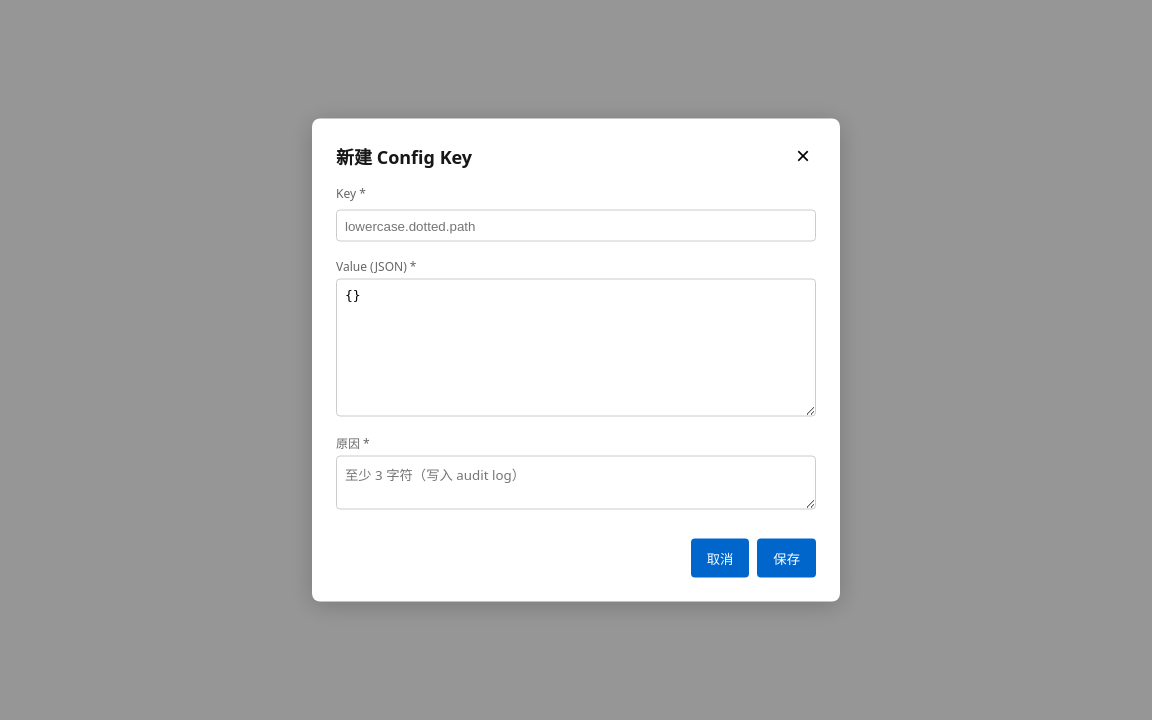
ConfigEditModal (Sub-E) › 6. reason shorter than 3 chars shows reason error
Type "platform.fee" into the field with test id "config-key" at x=576, y=226, box [336,210,816,242]
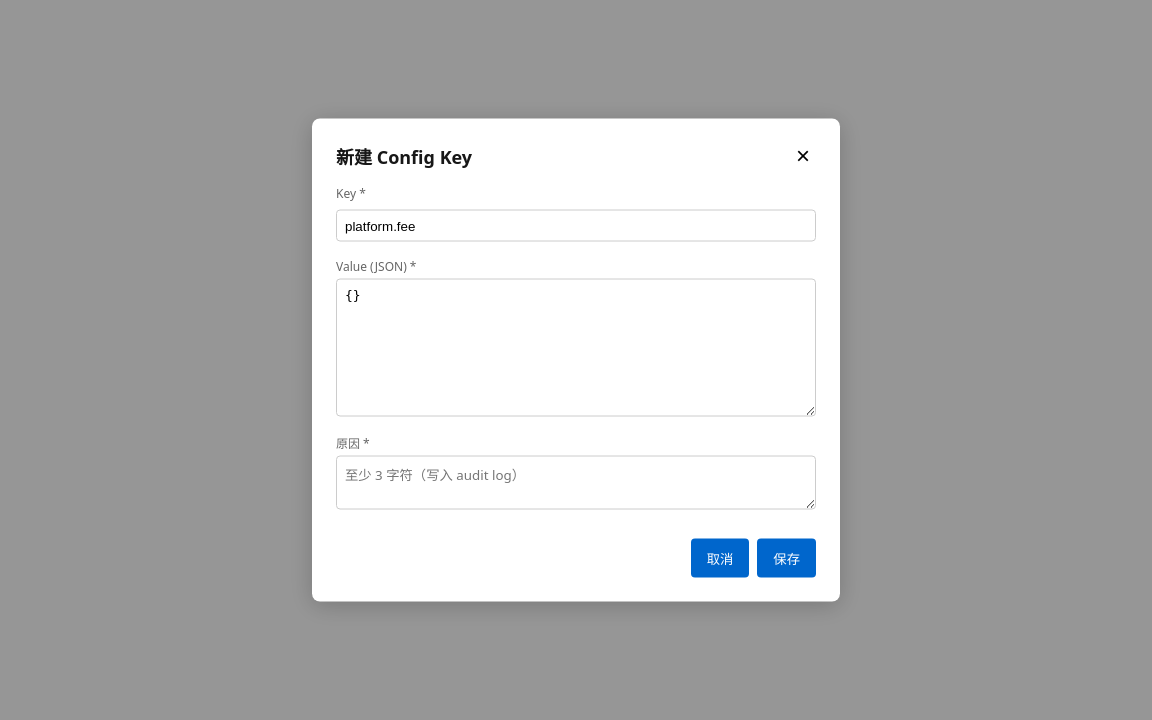
Type "no" into the text box with test id "config-reason" at x=576, y=482, box [336,456,816,510]
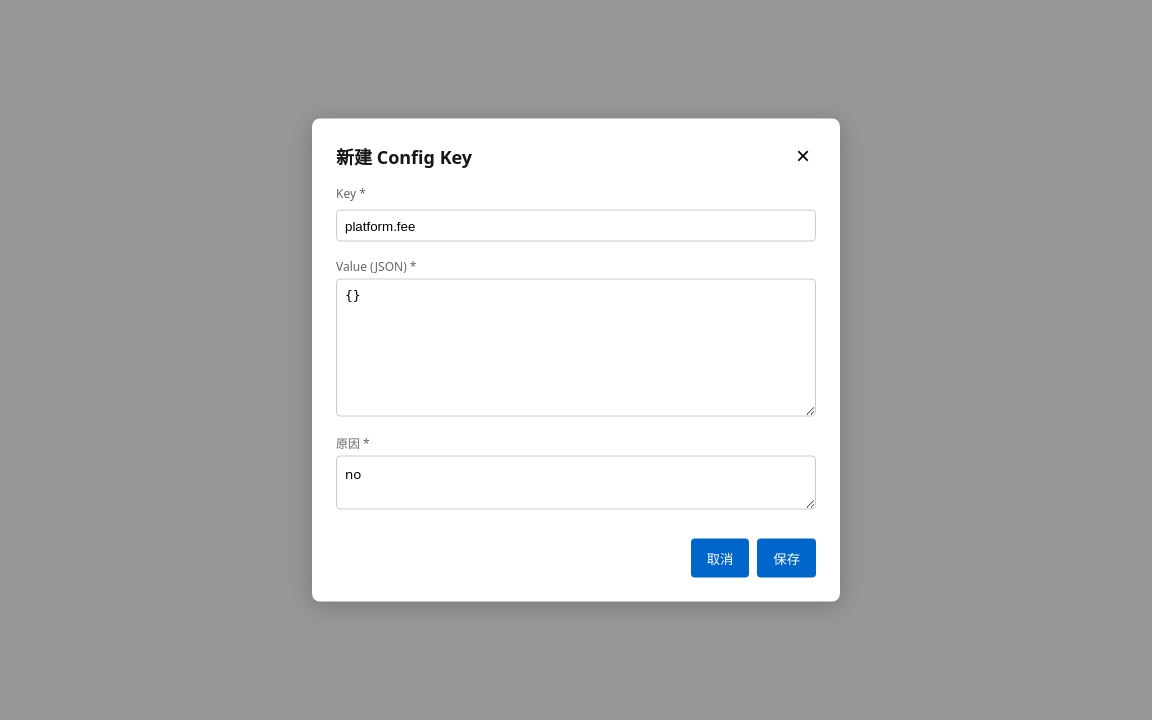
Click the button with test id "config-save" at x=787, y=558, box [757,538,816,578]
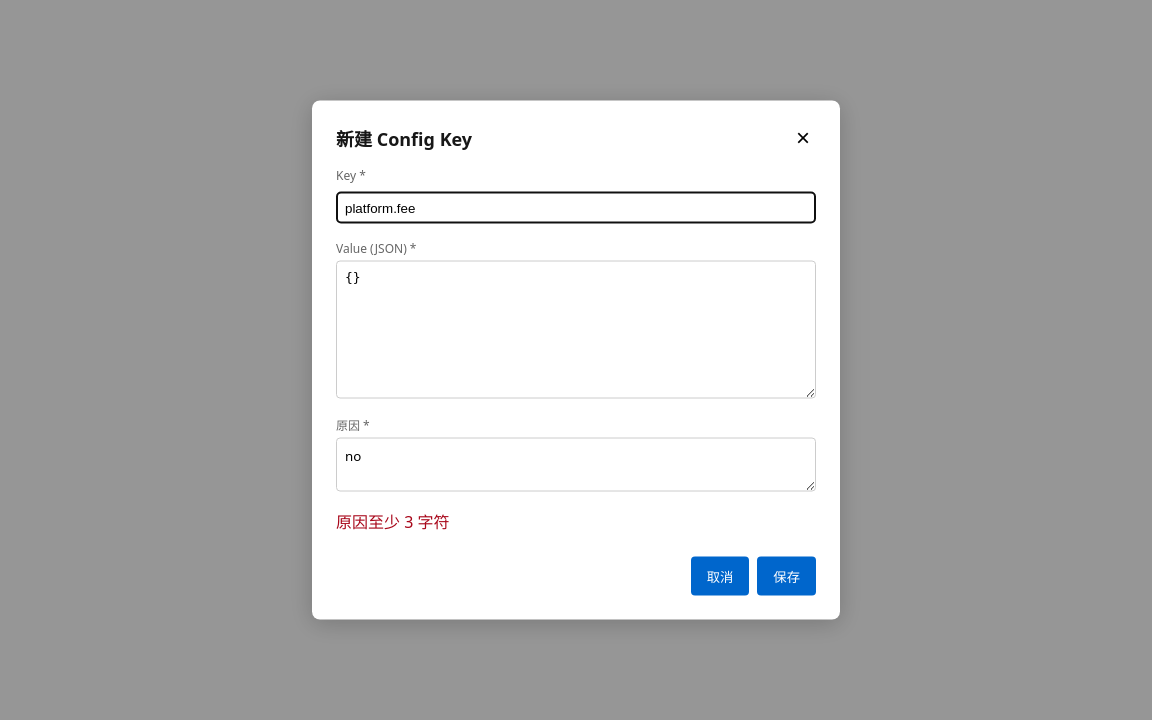
Check: the text with test id "config-modal-error" reads "原因至少 3 字符", box [336,510,450,532]
